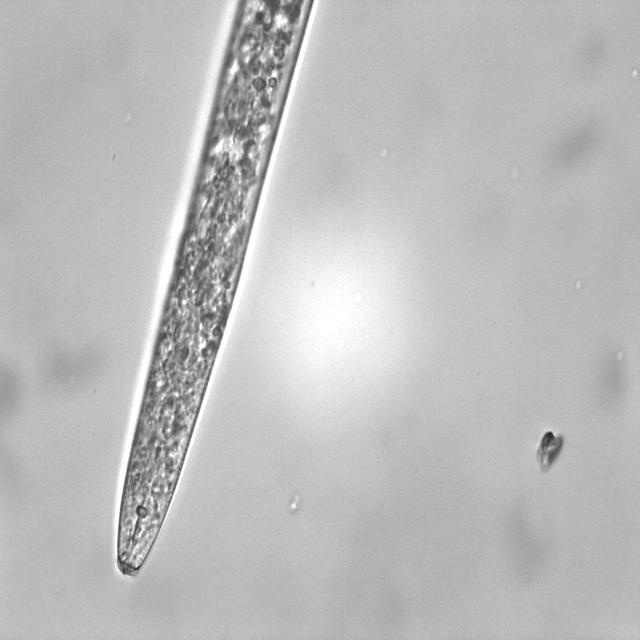Pratylenchus: (105, 0, 324, 580)
